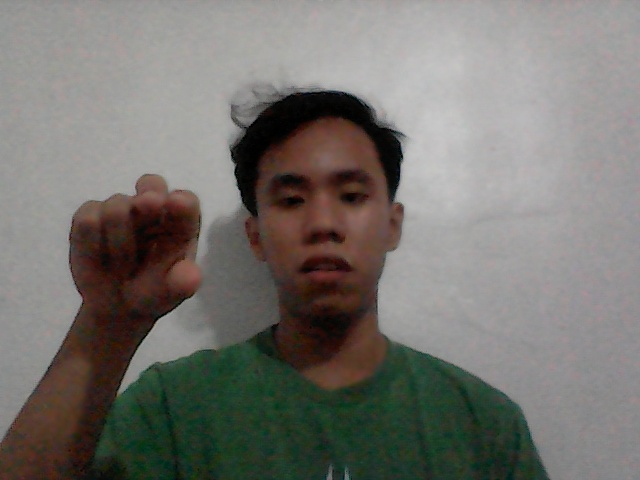No: (38, 158, 233, 352)
